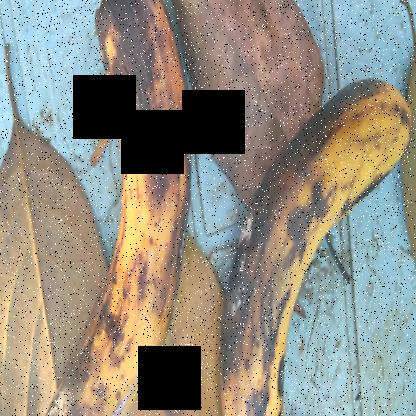rotten: (40, 1, 204, 415), (212, 70, 408, 415)
